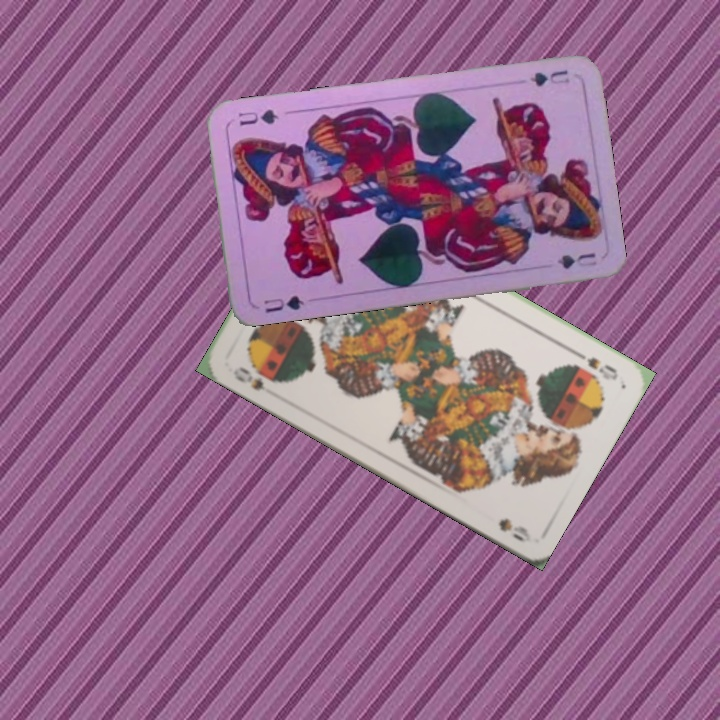GU: (260, 291, 307, 315), (526, 66, 572, 89)
SO: (229, 362, 284, 399), (569, 346, 621, 383)
